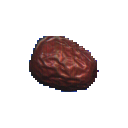gd: (22, 24, 105, 101)
